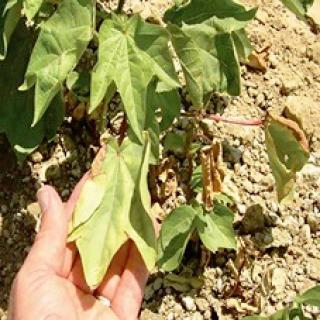wilt: (76, 143, 162, 269), (27, 6, 80, 112)
